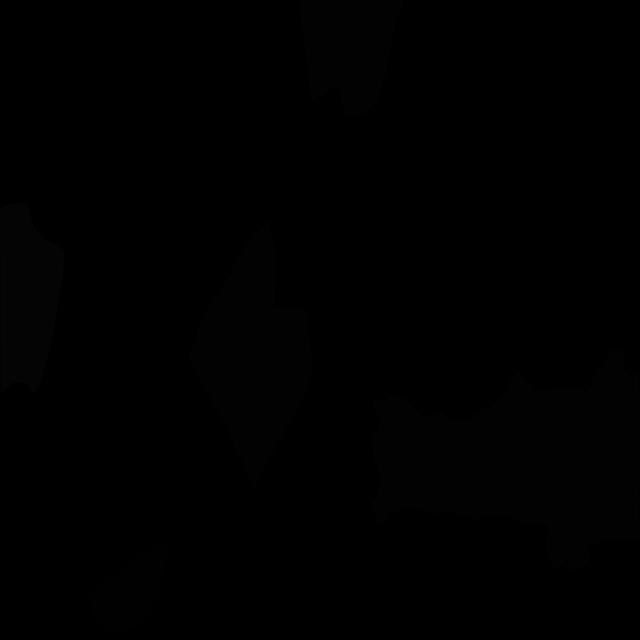cardboard: (368, 349, 640, 524), (188, 220, 312, 488), (300, 0, 404, 117), (546, 493, 640, 572)
rigid_plastic: (88, 541, 166, 636)
soft_plastic: (0, 202, 64, 395)
